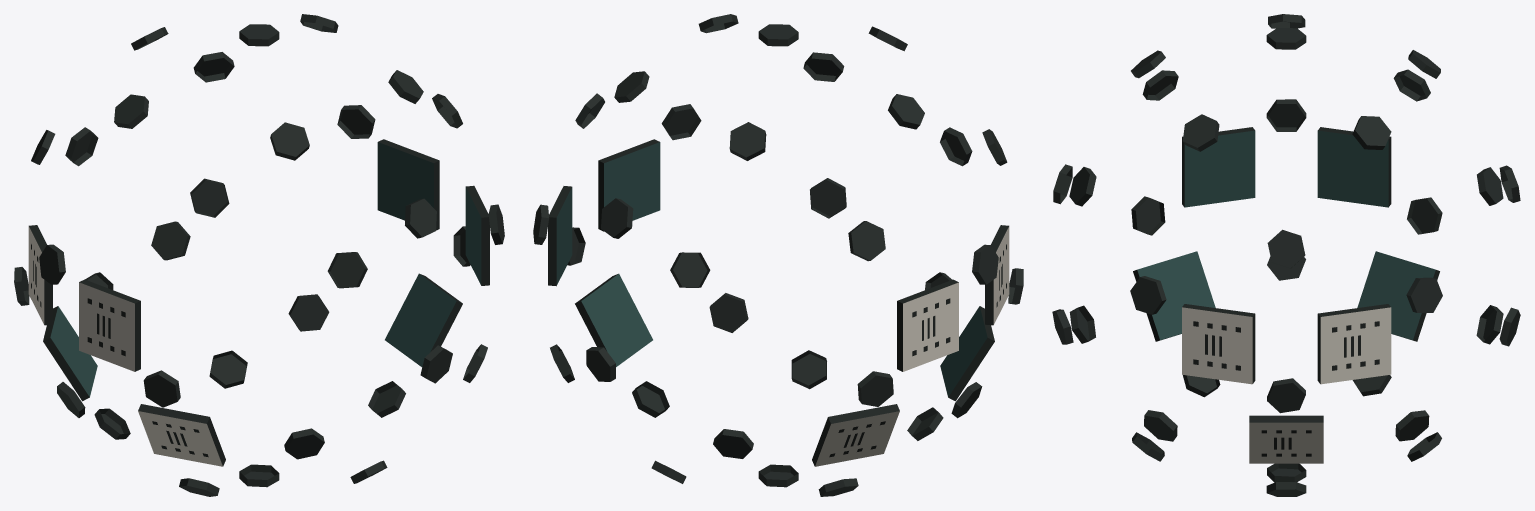
File: shell_tally_c3.glb
3 renders of one model, left to right at view 1: azimuth 30°, elevation 25°; view 2: azimuth 150°, elevation 25°; view 3: azimuth 270°, elevation 25°, orthographic.
Parts seen in each view (by area): view 1: Core, Pod; view 2: Core, Pod; view 3: Pod, Core.
Part boxes in pixels (<box>): Core: <box>14,14,504,496</box>; Pod: <box>28,139,489,466</box>; Core: <box>533,14,1023,496</box>; Pod: <box>548,139,1009,466</box>; Pod: <box>1133,127,1439,463</box>; Core: <box>1052,14,1520,496</box>.
Size of the model in its own units: 1.95 by 1.96 by 1.89.
